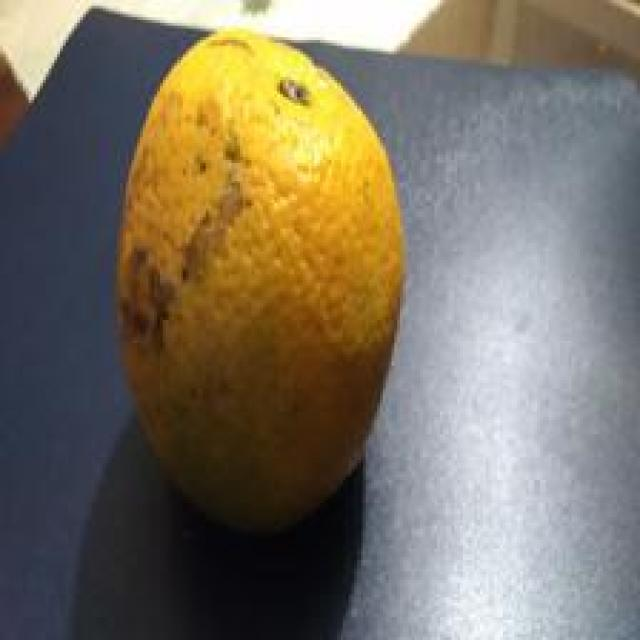overripe: (112, 23, 406, 548)
